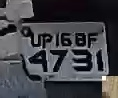1: (95, 49, 107, 72), (53, 32, 60, 48)
3: (70, 47, 93, 73)
4: (28, 48, 49, 73)
6: (60, 33, 73, 48)
7: (49, 48, 68, 73)
B: (74, 29, 86, 49)
F: (87, 31, 98, 48)
P: (42, 32, 51, 49)
U: (30, 32, 41, 50)
